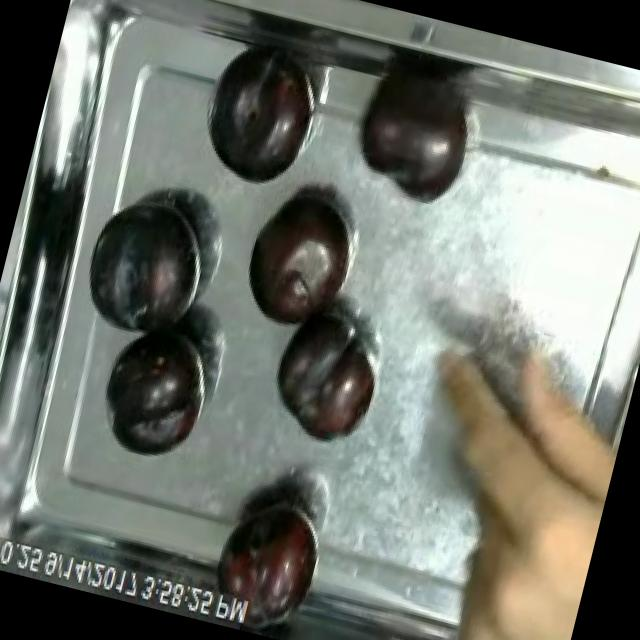Fruit: (67, 182, 222, 356), (224, 177, 368, 344), (194, 477, 340, 640), (185, 42, 329, 204), (86, 308, 222, 474), (344, 63, 486, 213), (258, 302, 392, 456)
